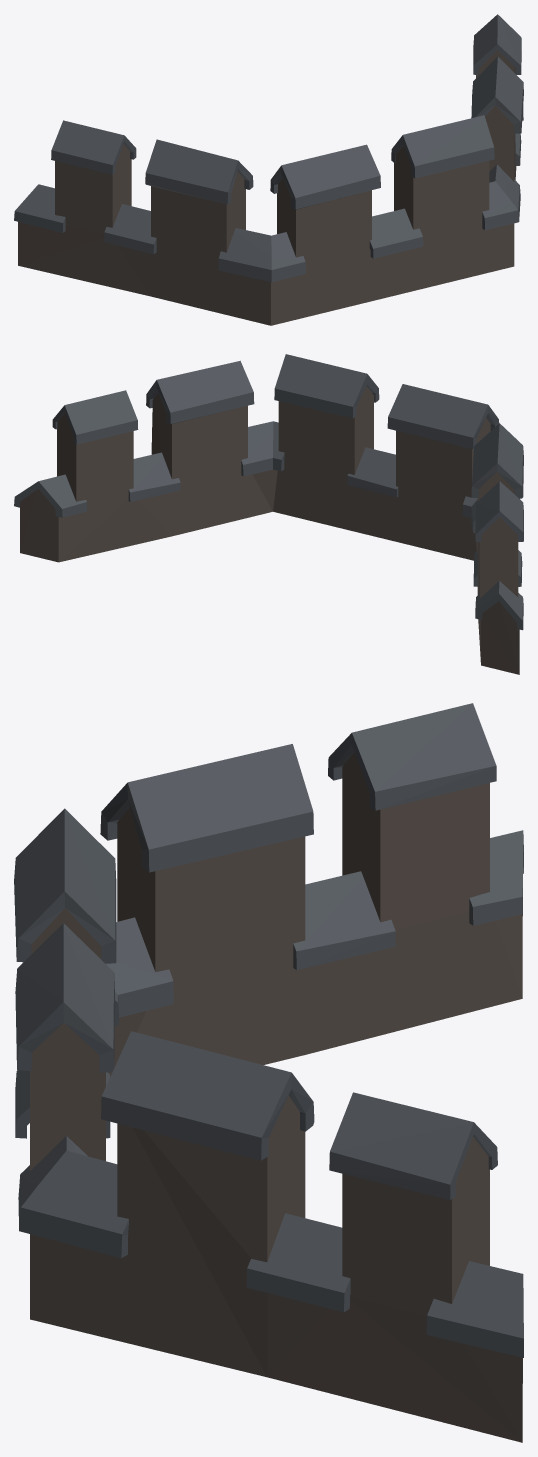
Rendered from MCastle_SmallTurret_10.FBX.
The picture shows the model from 3 angles, top to bottom: view 1: azimuth 30°, elevation 25°; view 2: azimuth 150°, elevation 25°; view 3: azimuth 270°, elevation 25°; orthographic projection. The views are drawn at different scales.
Parts seen in each view (by area): view 1: MCastle_SmallTurret_10_LOD0; view 2: MCastle_SmallTurret_10_LOD0; view 3: MCastle_SmallTurret_10_LOD0.
Part boxes in pixels (x1,y1,x2,y2): MCastle_SmallTurret_10_LOD0: (14, 14, 523, 325); MCastle_SmallTurret_10_LOD0: (14, 354, 523, 674); MCastle_SmallTurret_10_LOD0: (14, 703, 523, 1442).
Bounding box in the file's own units: 7.63 × 2.16 × 3.35.
